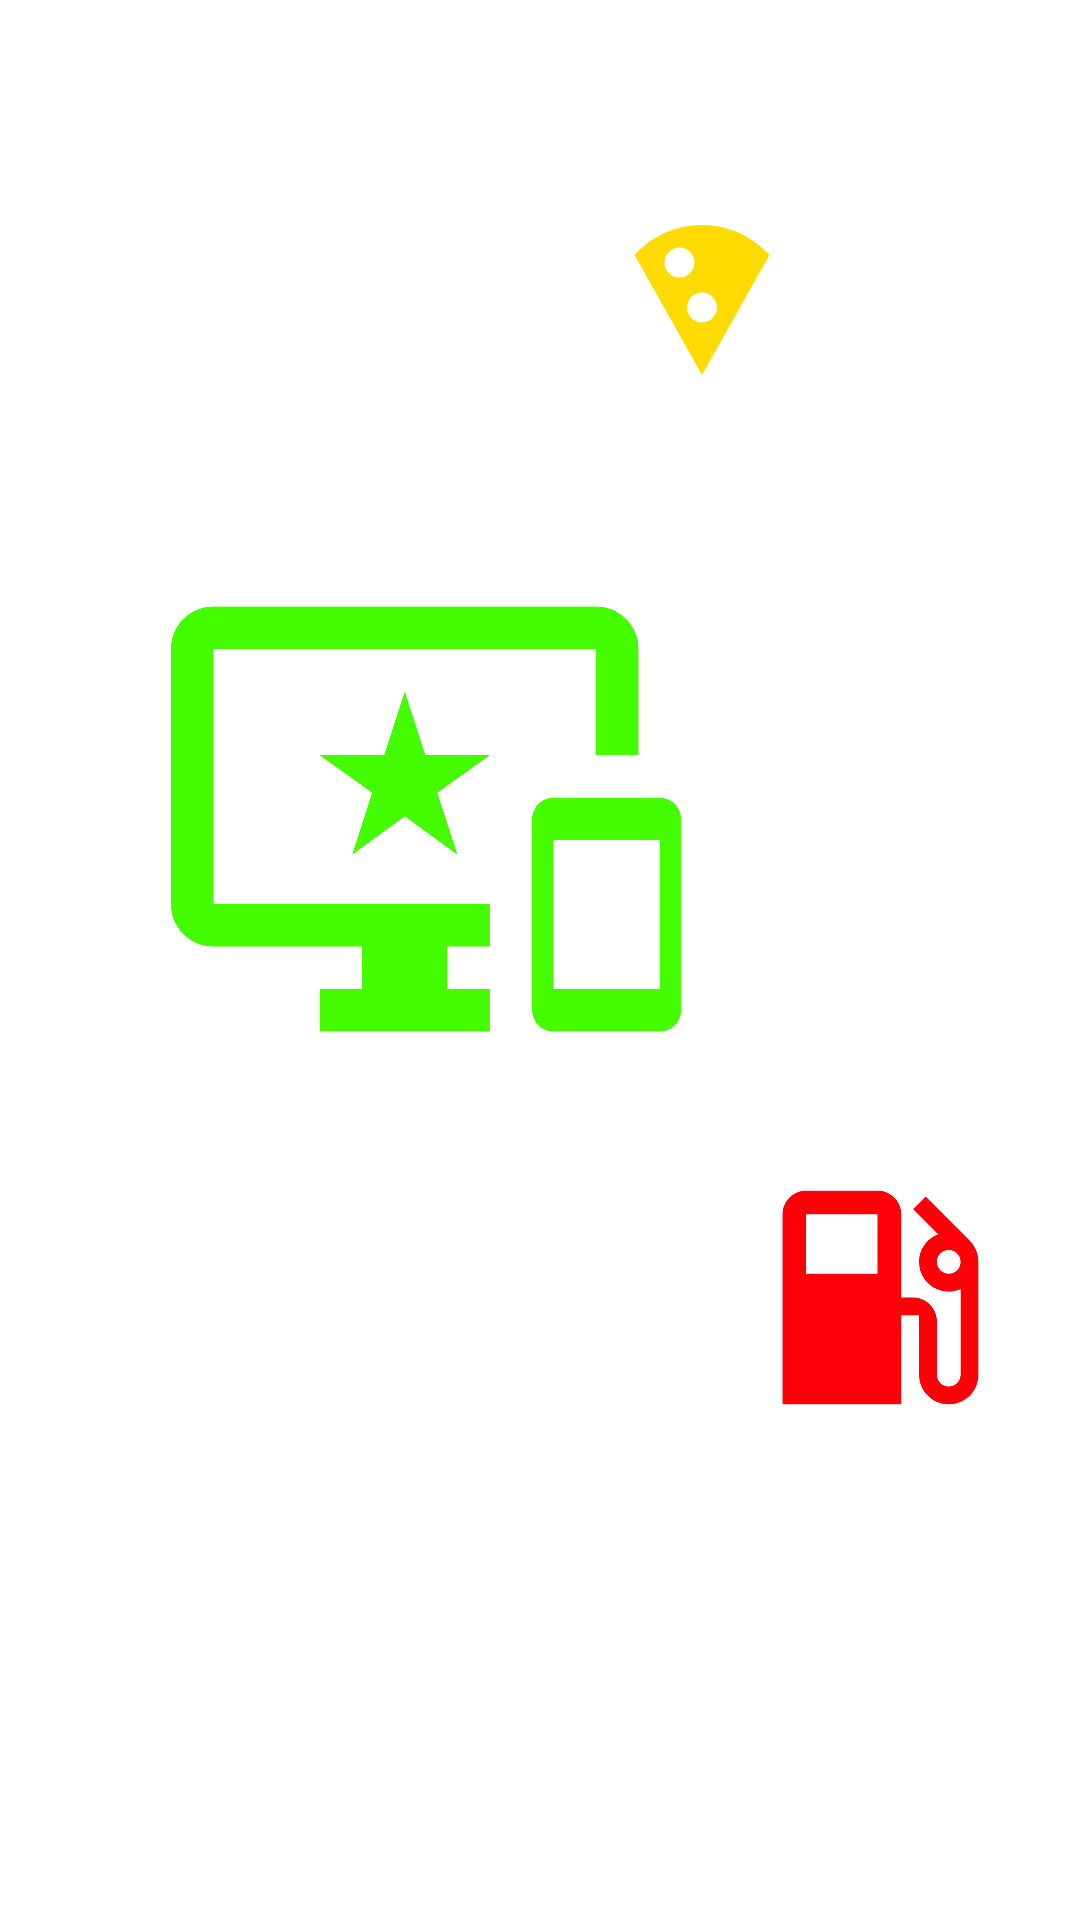

Icons on this 1080 x 1920 Android screen, each with the point to tap as [x,y]:
local gas station: [880,1297]
local pizza: [702,300]
